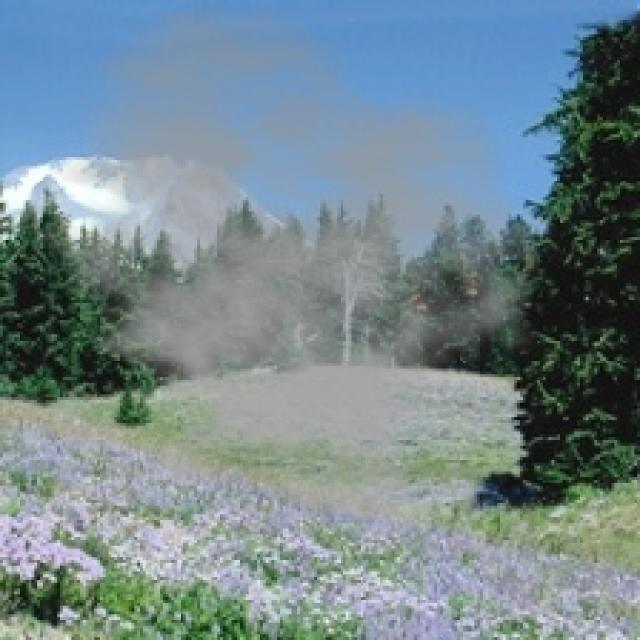Smoke: (6, 0, 560, 529)
